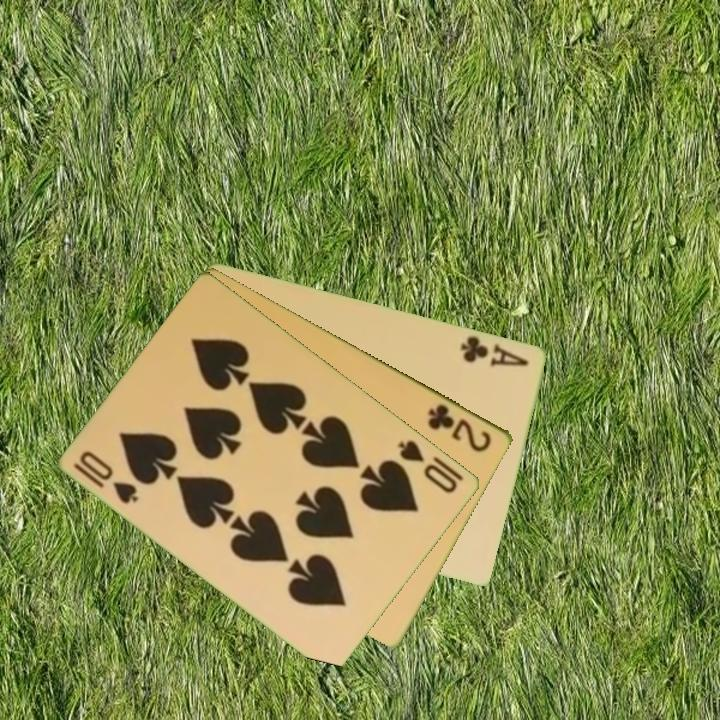10s: (70, 447, 142, 507), (395, 436, 461, 496)
2c: (424, 400, 495, 455)
Ac: (457, 332, 532, 370)
